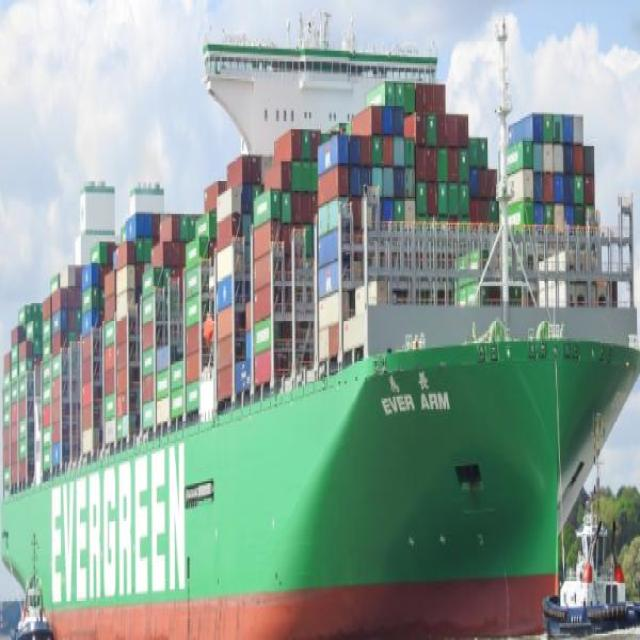Container Ship: (5, 13, 637, 636)
